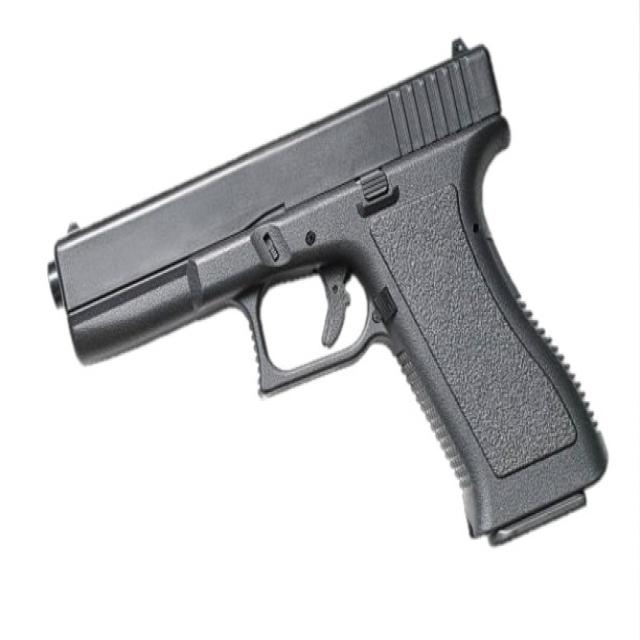pistol: (45, 34, 613, 555)
